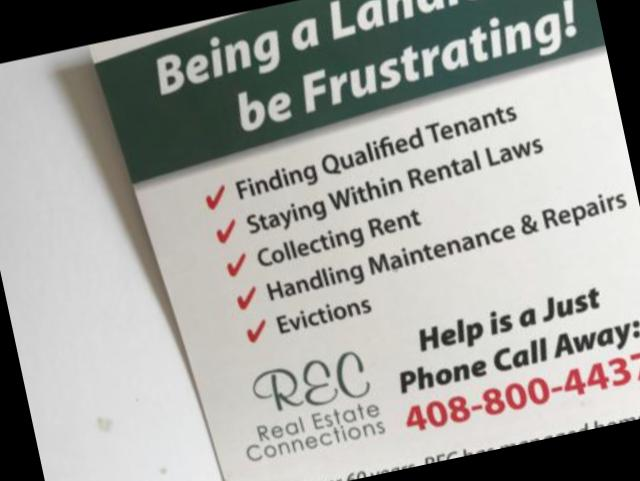cardboard paper: (92, 0, 640, 481)
